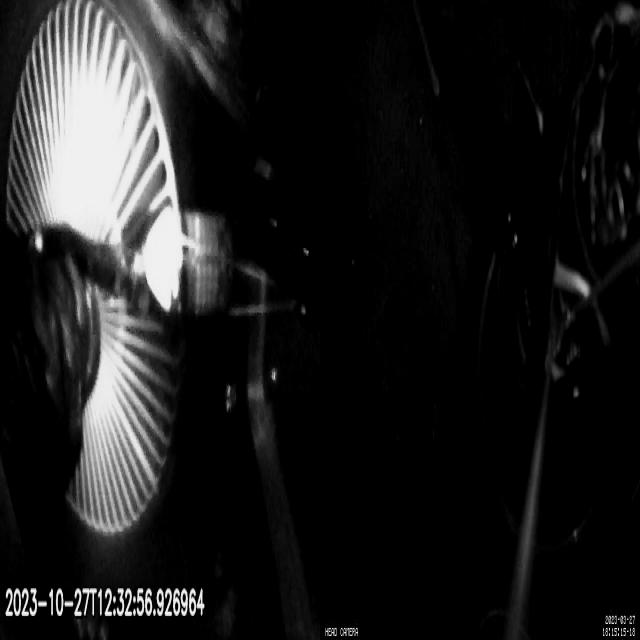head: (146, 208, 233, 322)
